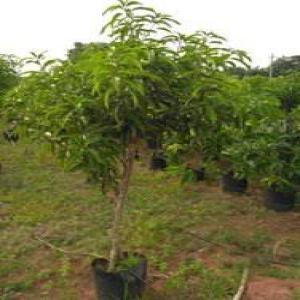Tree: (13, 1, 233, 298)
